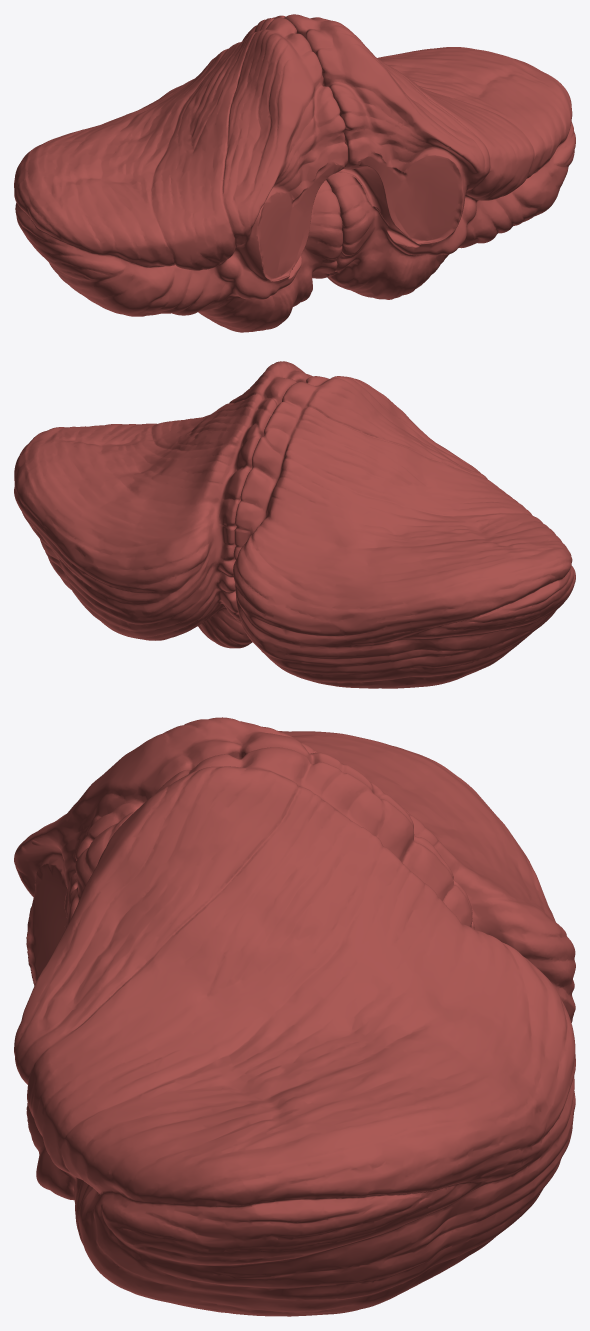
File: FMA67944.glb
3 views of the same model, one above another, from view 1: azimuth 30°, elevation 25°; view 2: azimuth 150°, elevation 25°; view 3: azimuth 270°, elevation 25° (orthographic). The views are drawn at different scales.
Parts seen in each view (by area): view 1: FMA67944; view 2: FMA67944; view 3: FMA67944.
Boxes of the visible parts, x1,y1,x2,y2 form: FMA67944: (14,14,575,332); FMA67944: (14,361,575,688); FMA67944: (14,717,575,1316).
Size of the model in its own units: 0.1006 by 0.0503 by 0.0531.
